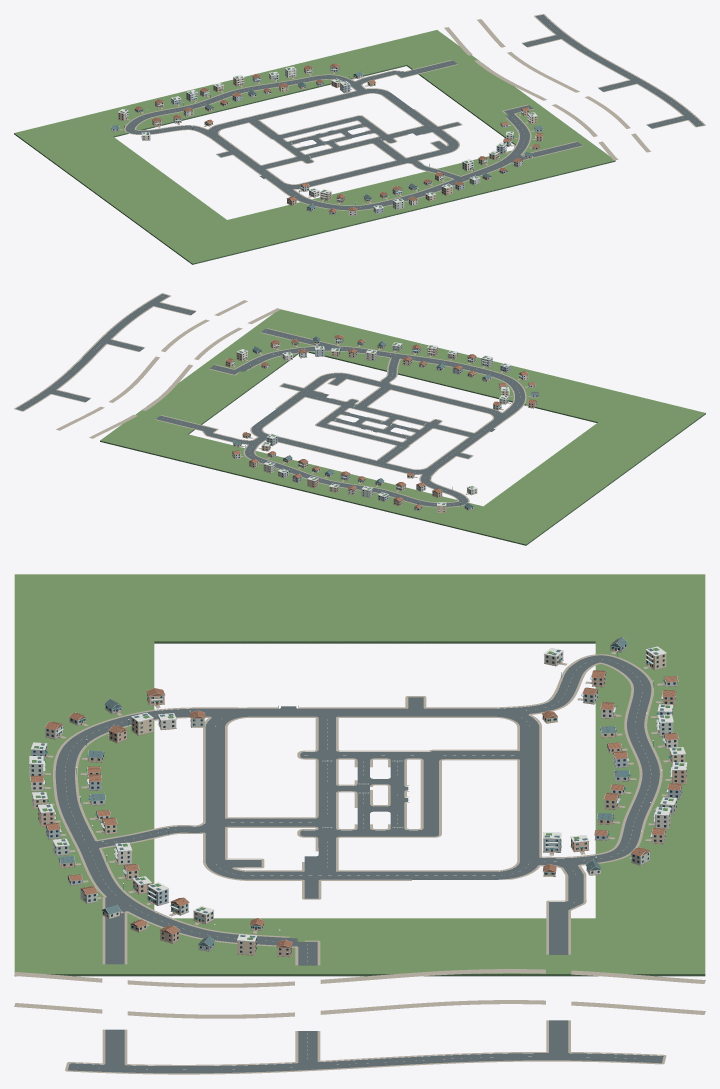
Rendered from city-districts.glb.
The picture shows the model from 3 angles, top to bottom: view 1: azimuth 30°, elevation 25°; view 2: azimuth 150°, elevation 25°; view 3: azimuth 270°, elevation 25°; orthographic projection. The views are drawn at different scales.
Parts seen in each view (by area): view 1: DistrictGround, ConnectedRoadNetwork; view 2: DistrictGround, ConnectedRoadNetwork; view 3: DistrictGround, ConnectedRoadNetwork.
Boxes of the visible parts, x1,y1,x2,y2 form: DistrictGround: (14, 30, 615, 264); ConnectedRoadNetwork: (124, 14, 705, 210); DistrictGround: (100, 309, 705, 545); ConnectedRoadNetwork: (14, 293, 526, 507); DistrictGround: (14, 574, 705, 976); ConnectedRoadNetwork: (14, 654, 705, 1074).
Bounding box in the file's own units: 614 × 9.7 × 359.
